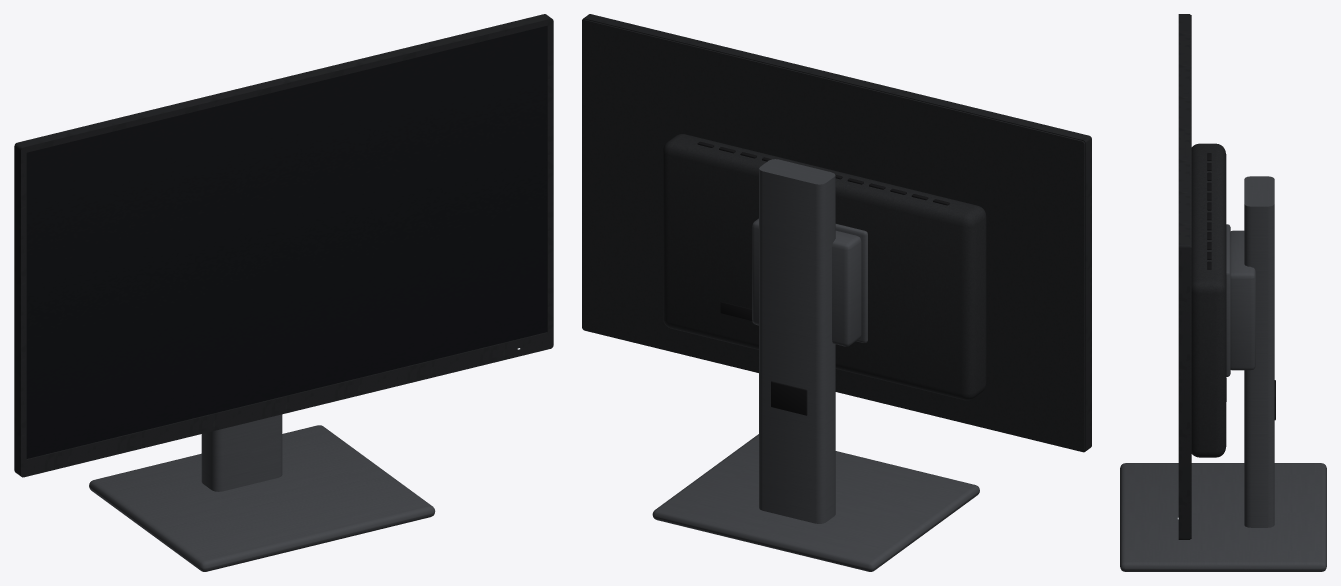
File: desktop-monitor.glb
3 views of the same model, side by side, from view 1: azimuth 30°, elevation 25°; view 2: azimuth 150°, elevation 25°; view 3: azimuth 270°, elevation 25° (orthographic). The views are drawn at different scales.
Visible parts, largest first — view 1: Screen, Stand, Bezel frame; view 2: Rear housing, Stand, Bezel frame, Vents and ports, Cable opening; view 3: Stand, Rear housing, Bezel frame, Vents and ports.
Boxes of the visible parts, x1=… form: Screen: x1=26, y1=26, x2=547, y2=458; Stand: x1=89, y1=414, x2=435, y2=571; Bezel frame: x1=14, y1=14, x2=553, y2=477; Rear housing: x1=582, y1=19, x2=1084, y2=451; Stand: x1=652, y1=159, x2=979, y2=571; Bezel frame: x1=582, y1=14, x2=1091, y2=452; Vents and ports: x1=697, y1=141, x2=949, y2=320; Cable opening: x1=771, y1=381, x2=807, y2=415; Stand: x1=1120, y1=176, x2=1326, y2=571; Rear housing: x1=1190, y1=15, x2=1226, y2=538; Bezel frame: x1=1178, y1=14, x2=1190, y2=539; Vents and ports: x1=1207, y1=153, x2=1226, y2=401.
Bounding box in the file's own units: 0.6117 × 0.4822 × 0.23.
6 materials, 6 textured.
